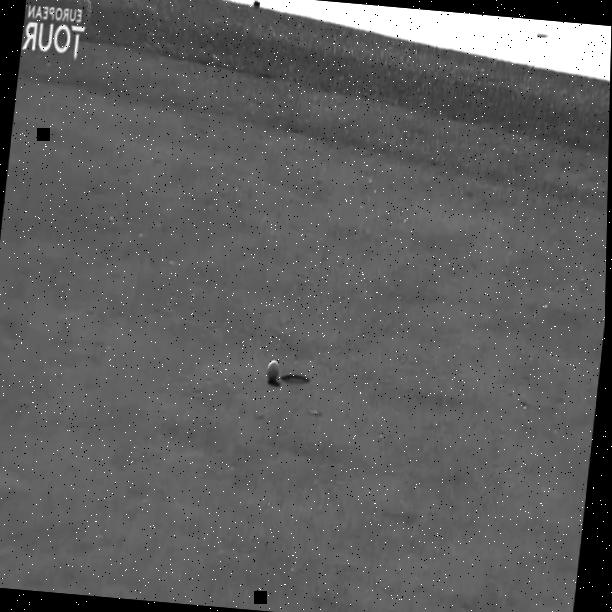GolfBall: (260, 354, 286, 390)
